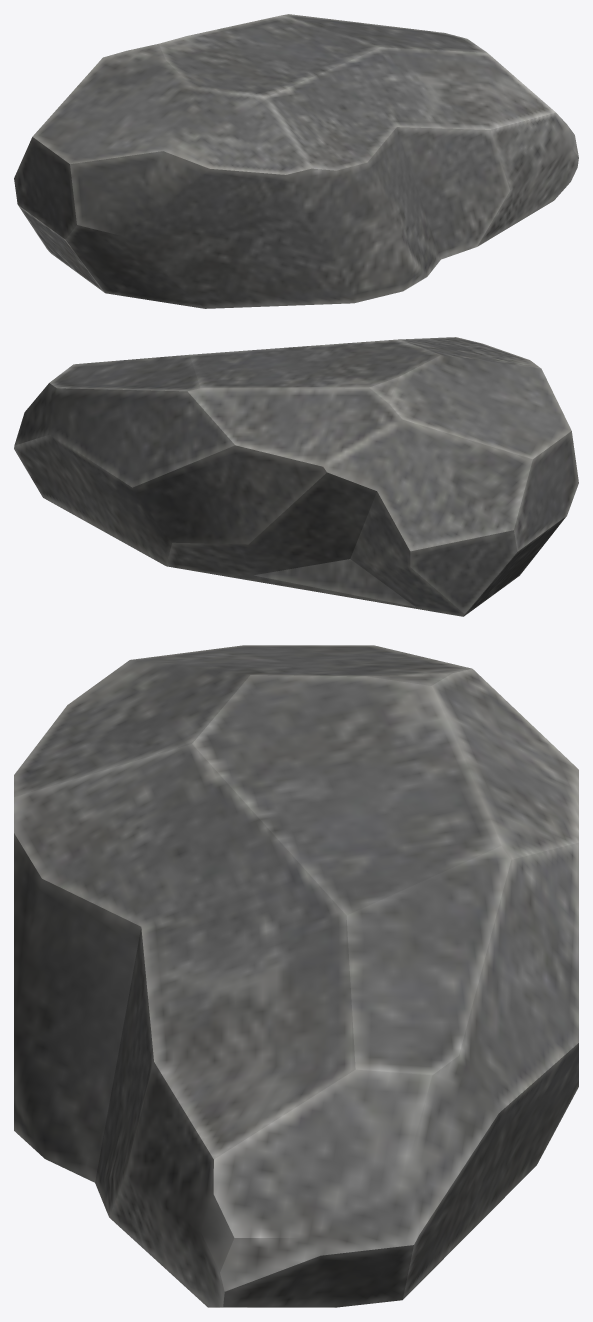
Rendered from Rock02_Dream.glb.
3 renders of one model, top to bottom at view 1: azimuth 30°, elevation 25°; view 2: azimuth 150°, elevation 25°; view 3: azimuth 270°, elevation 25°, orthographic. The views are drawn at different scales.
Parts seen in each view (by area): view 1: rock02_dream; view 2: rock02_dream; view 3: rock02_dream.
Boxes of the visible parts, x1,y1,x2,y2 form: rock02_dream: [14, 14, 578, 308]; rock02_dream: [14, 337, 578, 616]; rock02_dream: [14, 645, 578, 1307].
Size of the model in its own units: 0.6735 by 0.2704 by 0.3729.
1 material, 1 textured.
